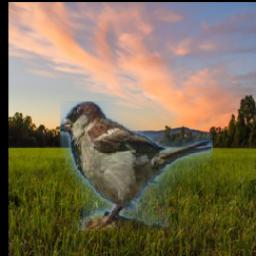Sparrow: (59, 102, 212, 232)
